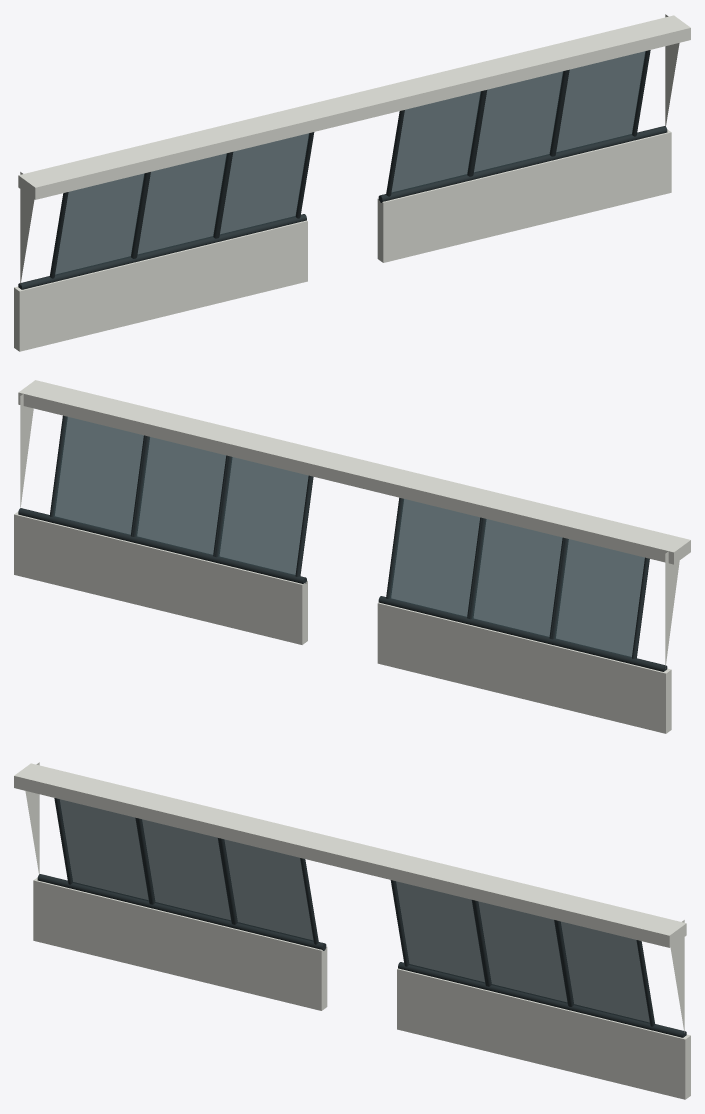
The model's file is ferry_saloon_front.glb.
3 views of the same model, one above another, from view 1: azimuth 30°, elevation 25°; view 2: azimuth 150°, elevation 25°; view 3: azimuth 330°, elevation 25° (orthographic).
Visible parts, largest first — view 1: ferry_saloon_front__Warm white painted steel, ferry_saloon_front__Optical ferry glass, ferry_saloon_front__Fixed_BlackHousing; view 2: ferry_saloon_front__Warm white painted steel, ferry_saloon_front__Optical ferry glass, ferry_saloon_front__Fixed_BlackHousing; view 3: ferry_saloon_front__Warm white painted steel, ferry_saloon_front__Optical ferry glass, ferry_saloon_front__Fixed_BlackHousing.
Part boxes in pixels (x1,y1,x2,y2): ferry_saloon_front__Warm white painted steel: [14, 14, 690, 351]; ferry_saloon_front__Optical ferry glass: [55, 51, 645, 275]; ferry_saloon_front__Fixed_BlackHousing: [18, 50, 667, 289]; ferry_saloon_front__Warm white painted steel: [14, 380, 690, 733]; ferry_saloon_front__Optical ferry glass: [53, 416, 644, 657]; ferry_saloon_front__Fixed_BlackHousing: [18, 415, 667, 671]; ferry_saloon_front__Warm white painted steel: [14, 762, 690, 1099]; ferry_saloon_front__Optical ferry glass: [59, 799, 649, 1023]; ferry_saloon_front__Fixed_BlackHousing: [37, 798, 686, 1037].
Bounding box in the file's own units: 9.55 × 2.47 × 0.585.
